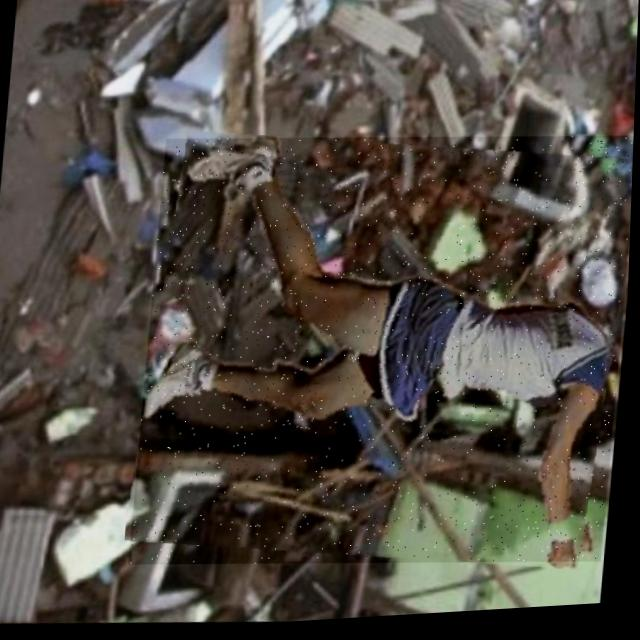Person in Rubble: (131, 119, 636, 591)
